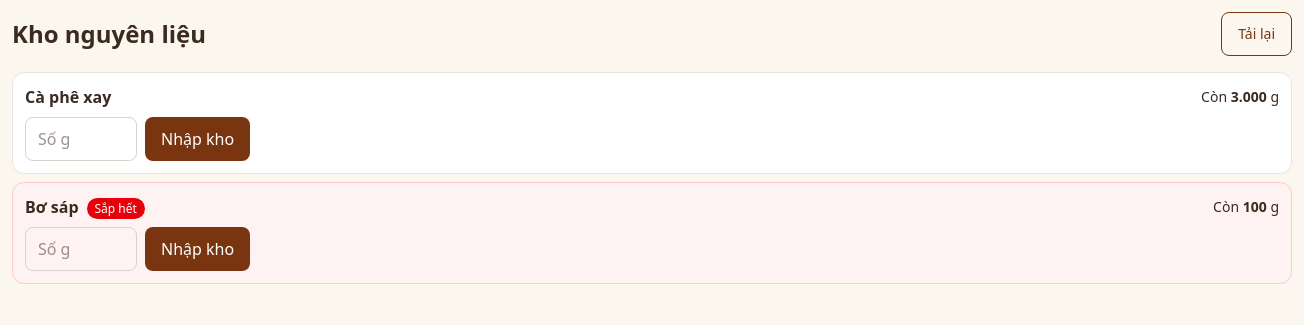
Test: Màn hình kho nguyên liệu (CT-63 – CT-66) › CT-66: API báo lỗi khi nhập kho thì hiện câu báo ở dòng đó; tải danh sách lỗi thì có Thử lại
Later steps or results of the test are not shown.
Step 1. Type "500" into the field named "Số lượng nhập Bơ sáp" → (81, 249), box [25,227,137,271]
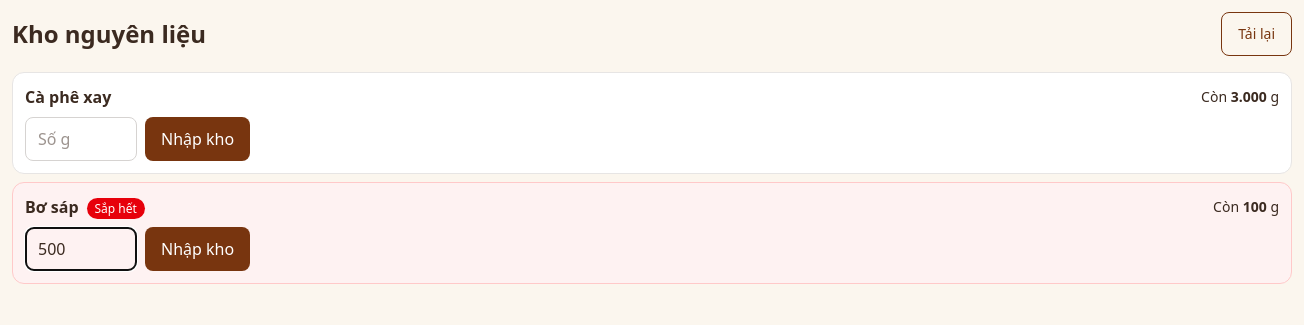
Step 2. Click the button "Nhập kho" below "Bơ sáp" → (198, 249), box [145,227,250,271]
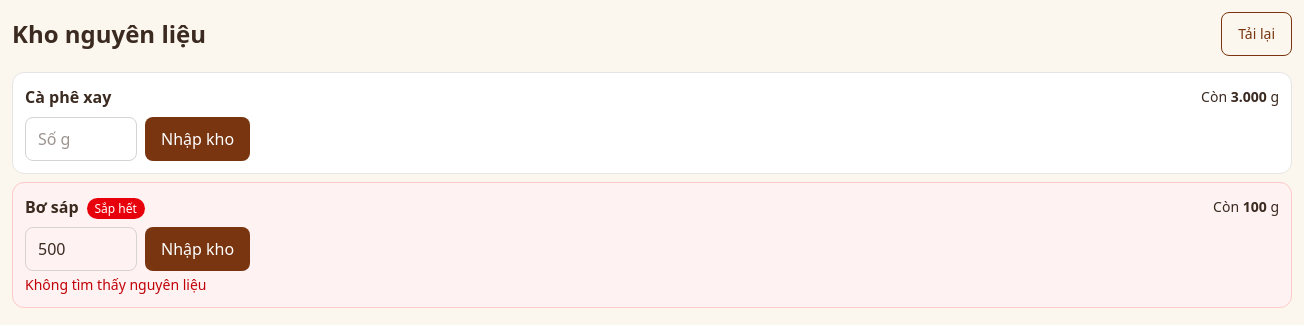
Expected: the list item "Bơ sáp" shows "Còn 100 g", [12,182,1292,308]
Expected: the message reads "Không tìm thấy nguyên liệu", [25,275,206,294]
